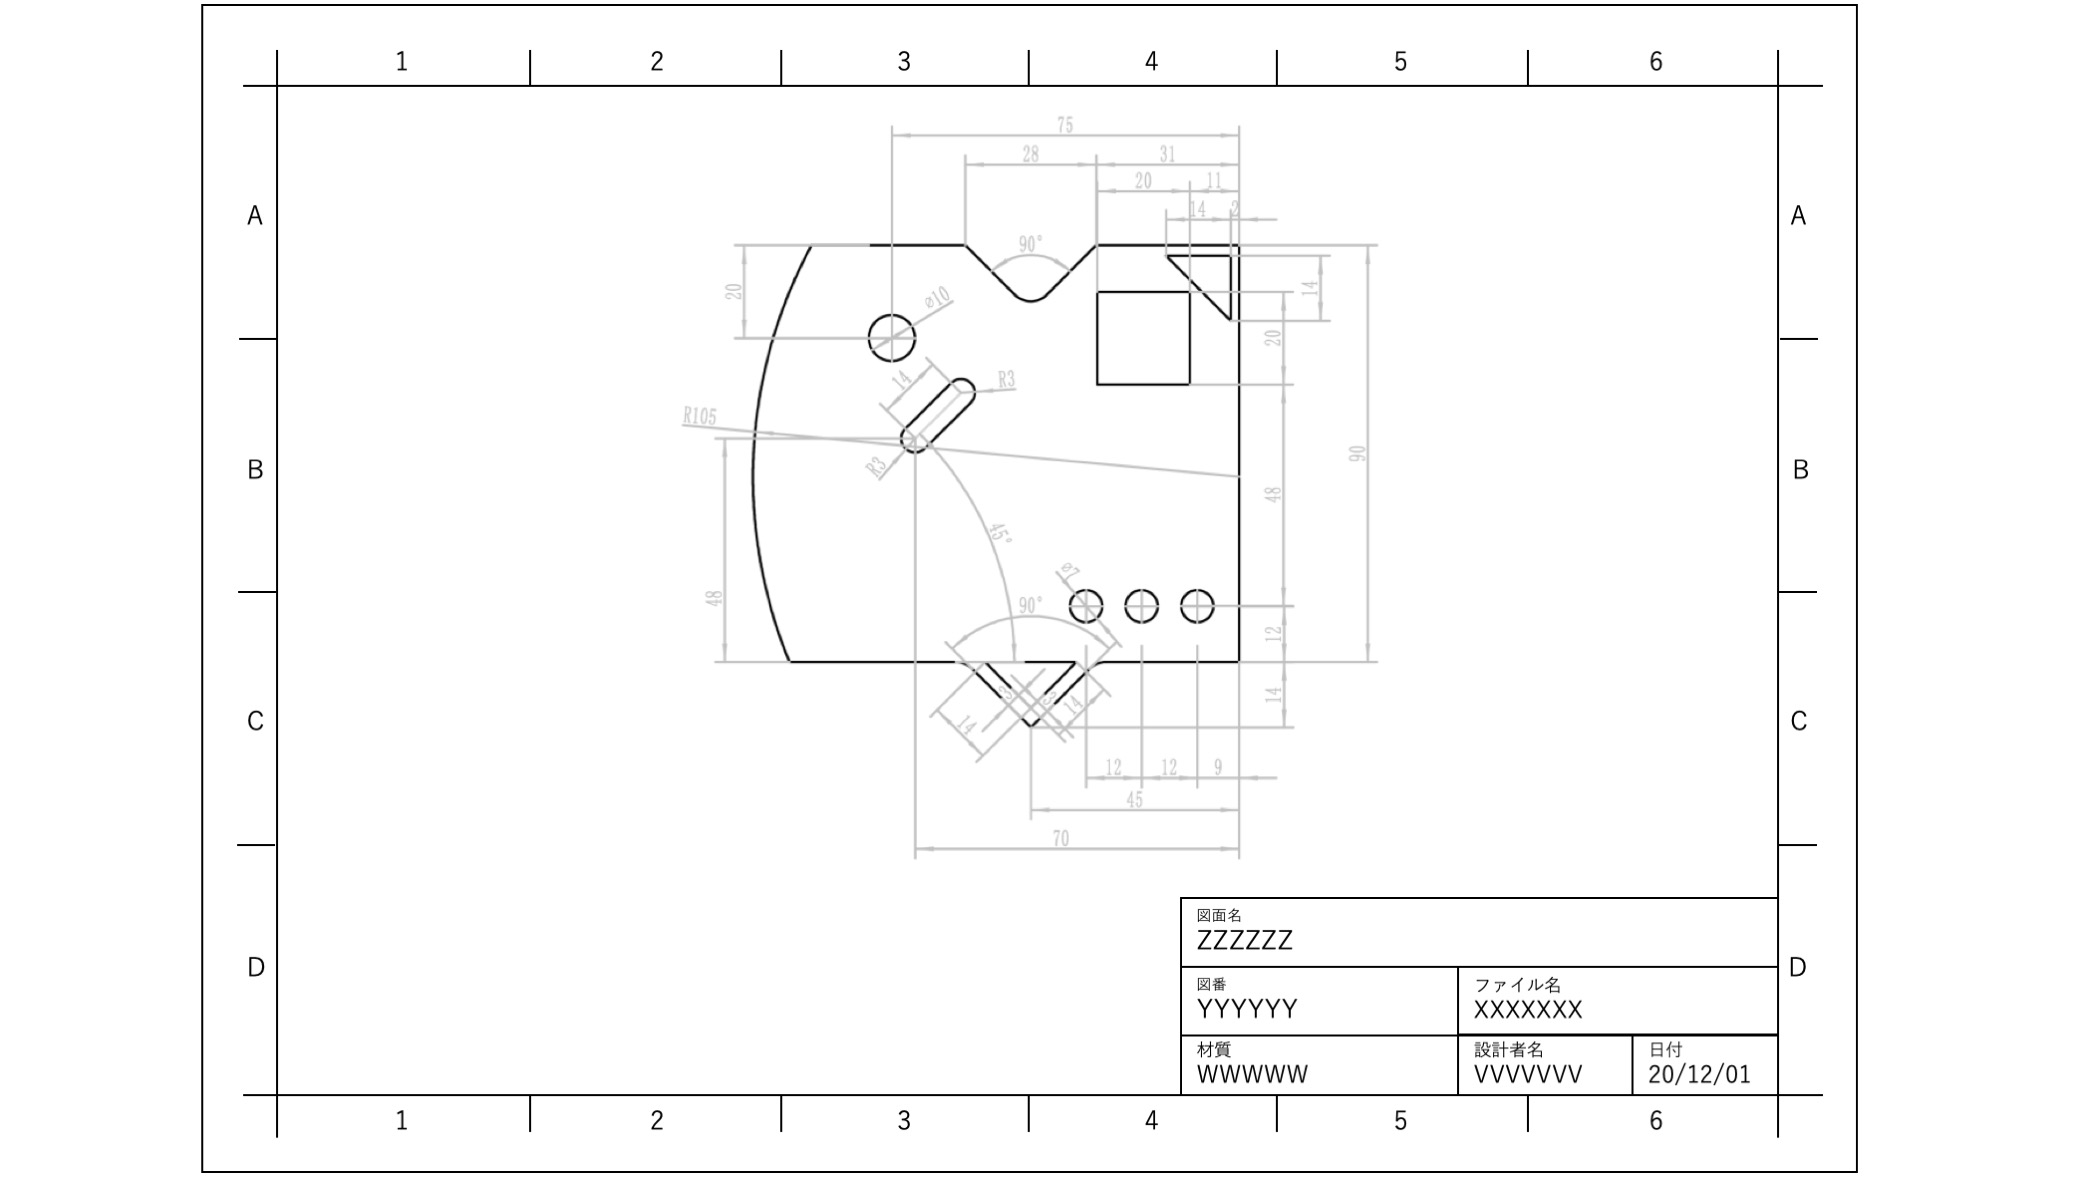circle: (862, 306, 922, 362), (1059, 580, 1111, 632), (1174, 581, 1222, 629), (1118, 585, 1164, 630)
rectangle: (1087, 281, 1197, 397)
round_rectangle: (899, 365, 982, 456)
triangle: (1162, 242, 1240, 329), (984, 650, 1080, 709)
